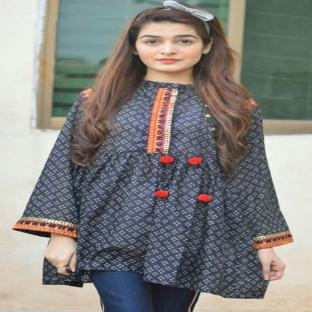Human: (14, 0, 292, 312)
